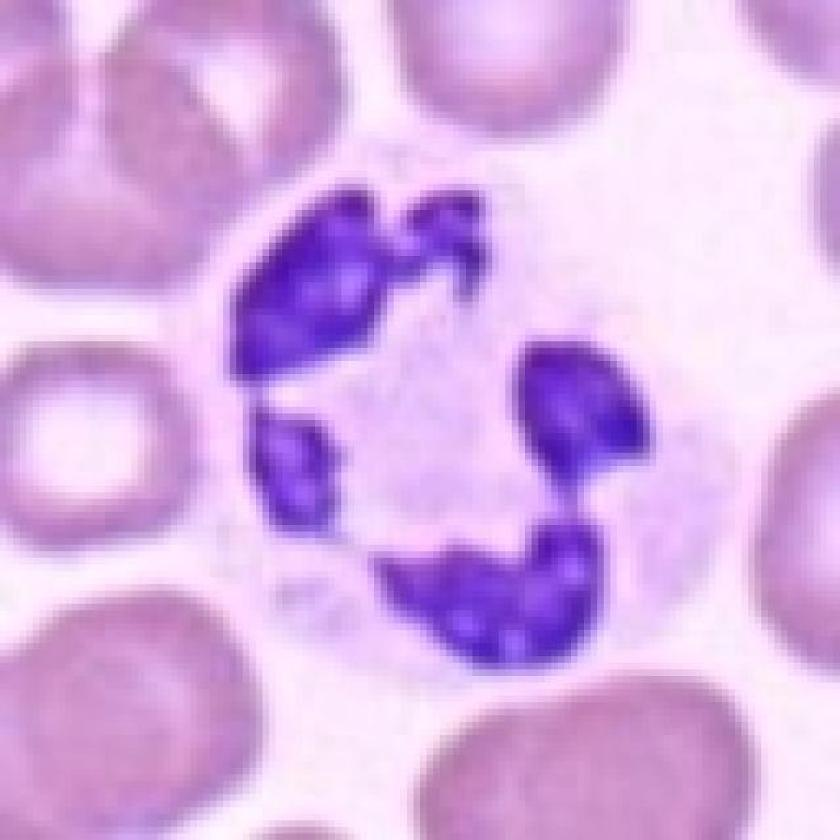neutrophil: (164, 144, 743, 676)
